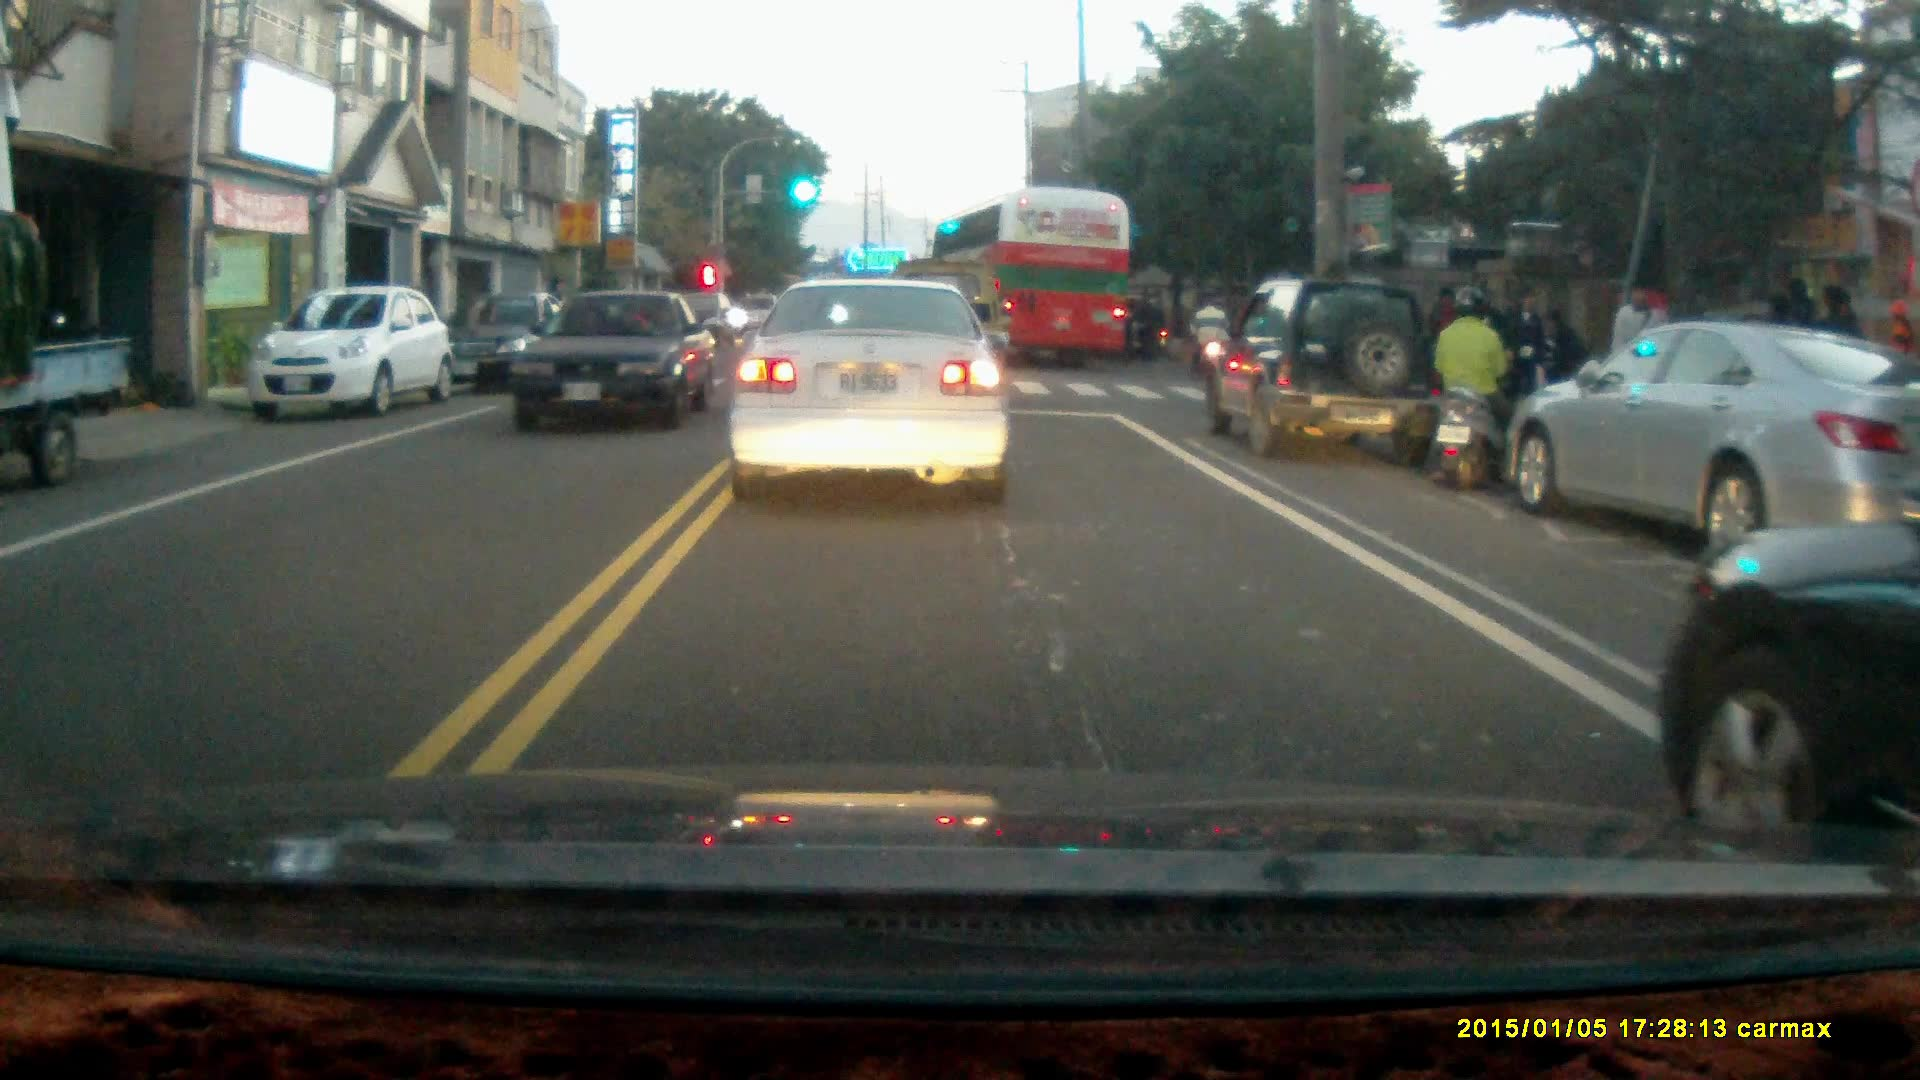pedestrian: (1601, 276, 1667, 418), (1501, 283, 1552, 424)
rider: (1428, 283, 1520, 494), (1113, 293, 1170, 362), (1186, 290, 1227, 373)
vehicle: (1508, 324, 1920, 570), (1673, 518, 1920, 829), (723, 270, 1014, 507), (1201, 275, 1448, 461), (932, 188, 1138, 374), (1, 226, 134, 485), (511, 286, 718, 435), (247, 286, 449, 417), (450, 288, 576, 391)
